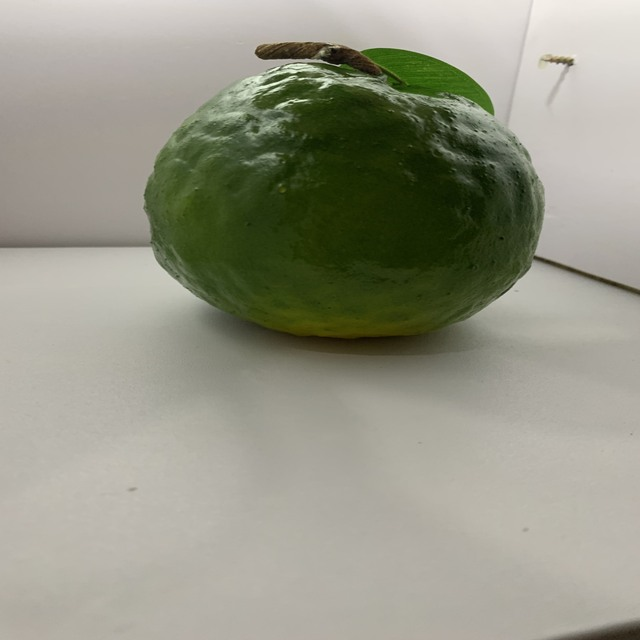Cam xanh: (132, 37, 557, 349)
